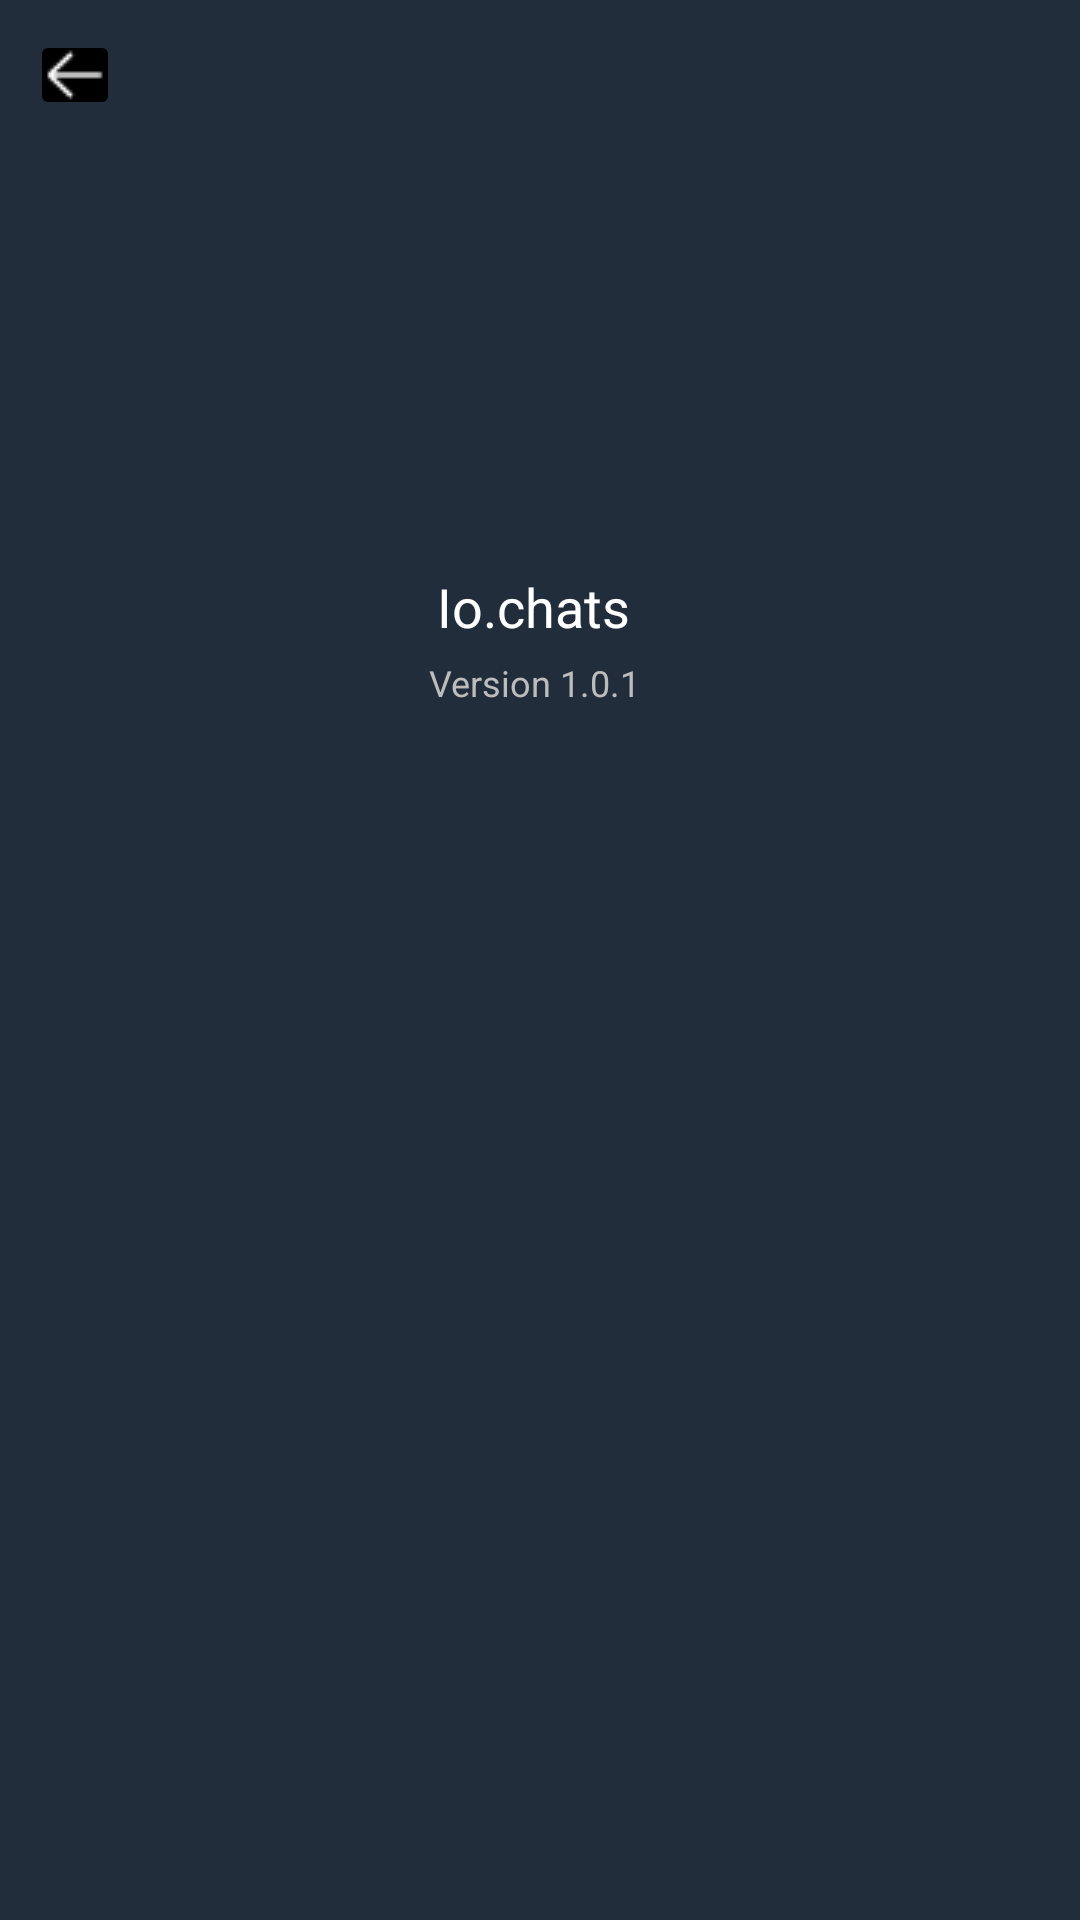

Where to tap for icons on this 1080px x 1920px app screen, as [x,y]:
arrow: [75,75]
